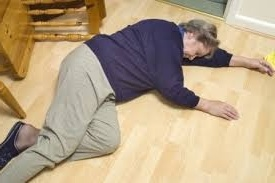fall: (1, 17, 274, 181)
